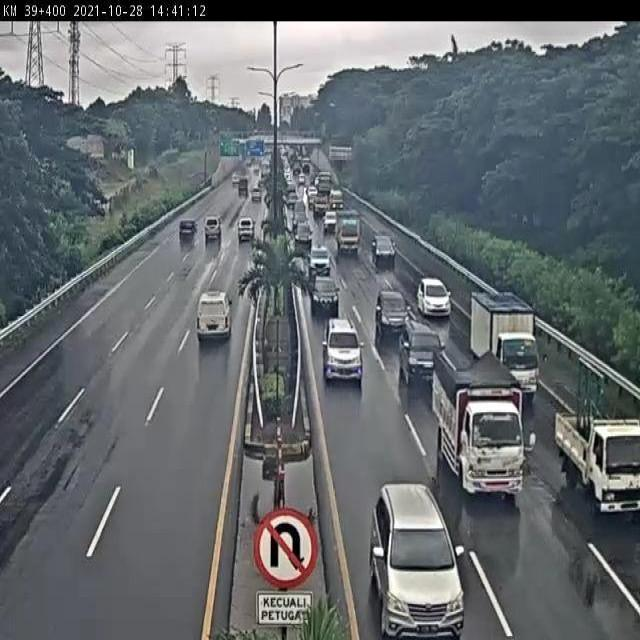car: (370, 482, 466, 640), (397, 320, 444, 389), (322, 317, 364, 383), (195, 291, 234, 345), (373, 289, 412, 336), (415, 278, 453, 322), (310, 273, 340, 315)
mid truck: (434, 349, 526, 499), (554, 411, 640, 516), (472, 294, 538, 402), (307, 244, 333, 277)
